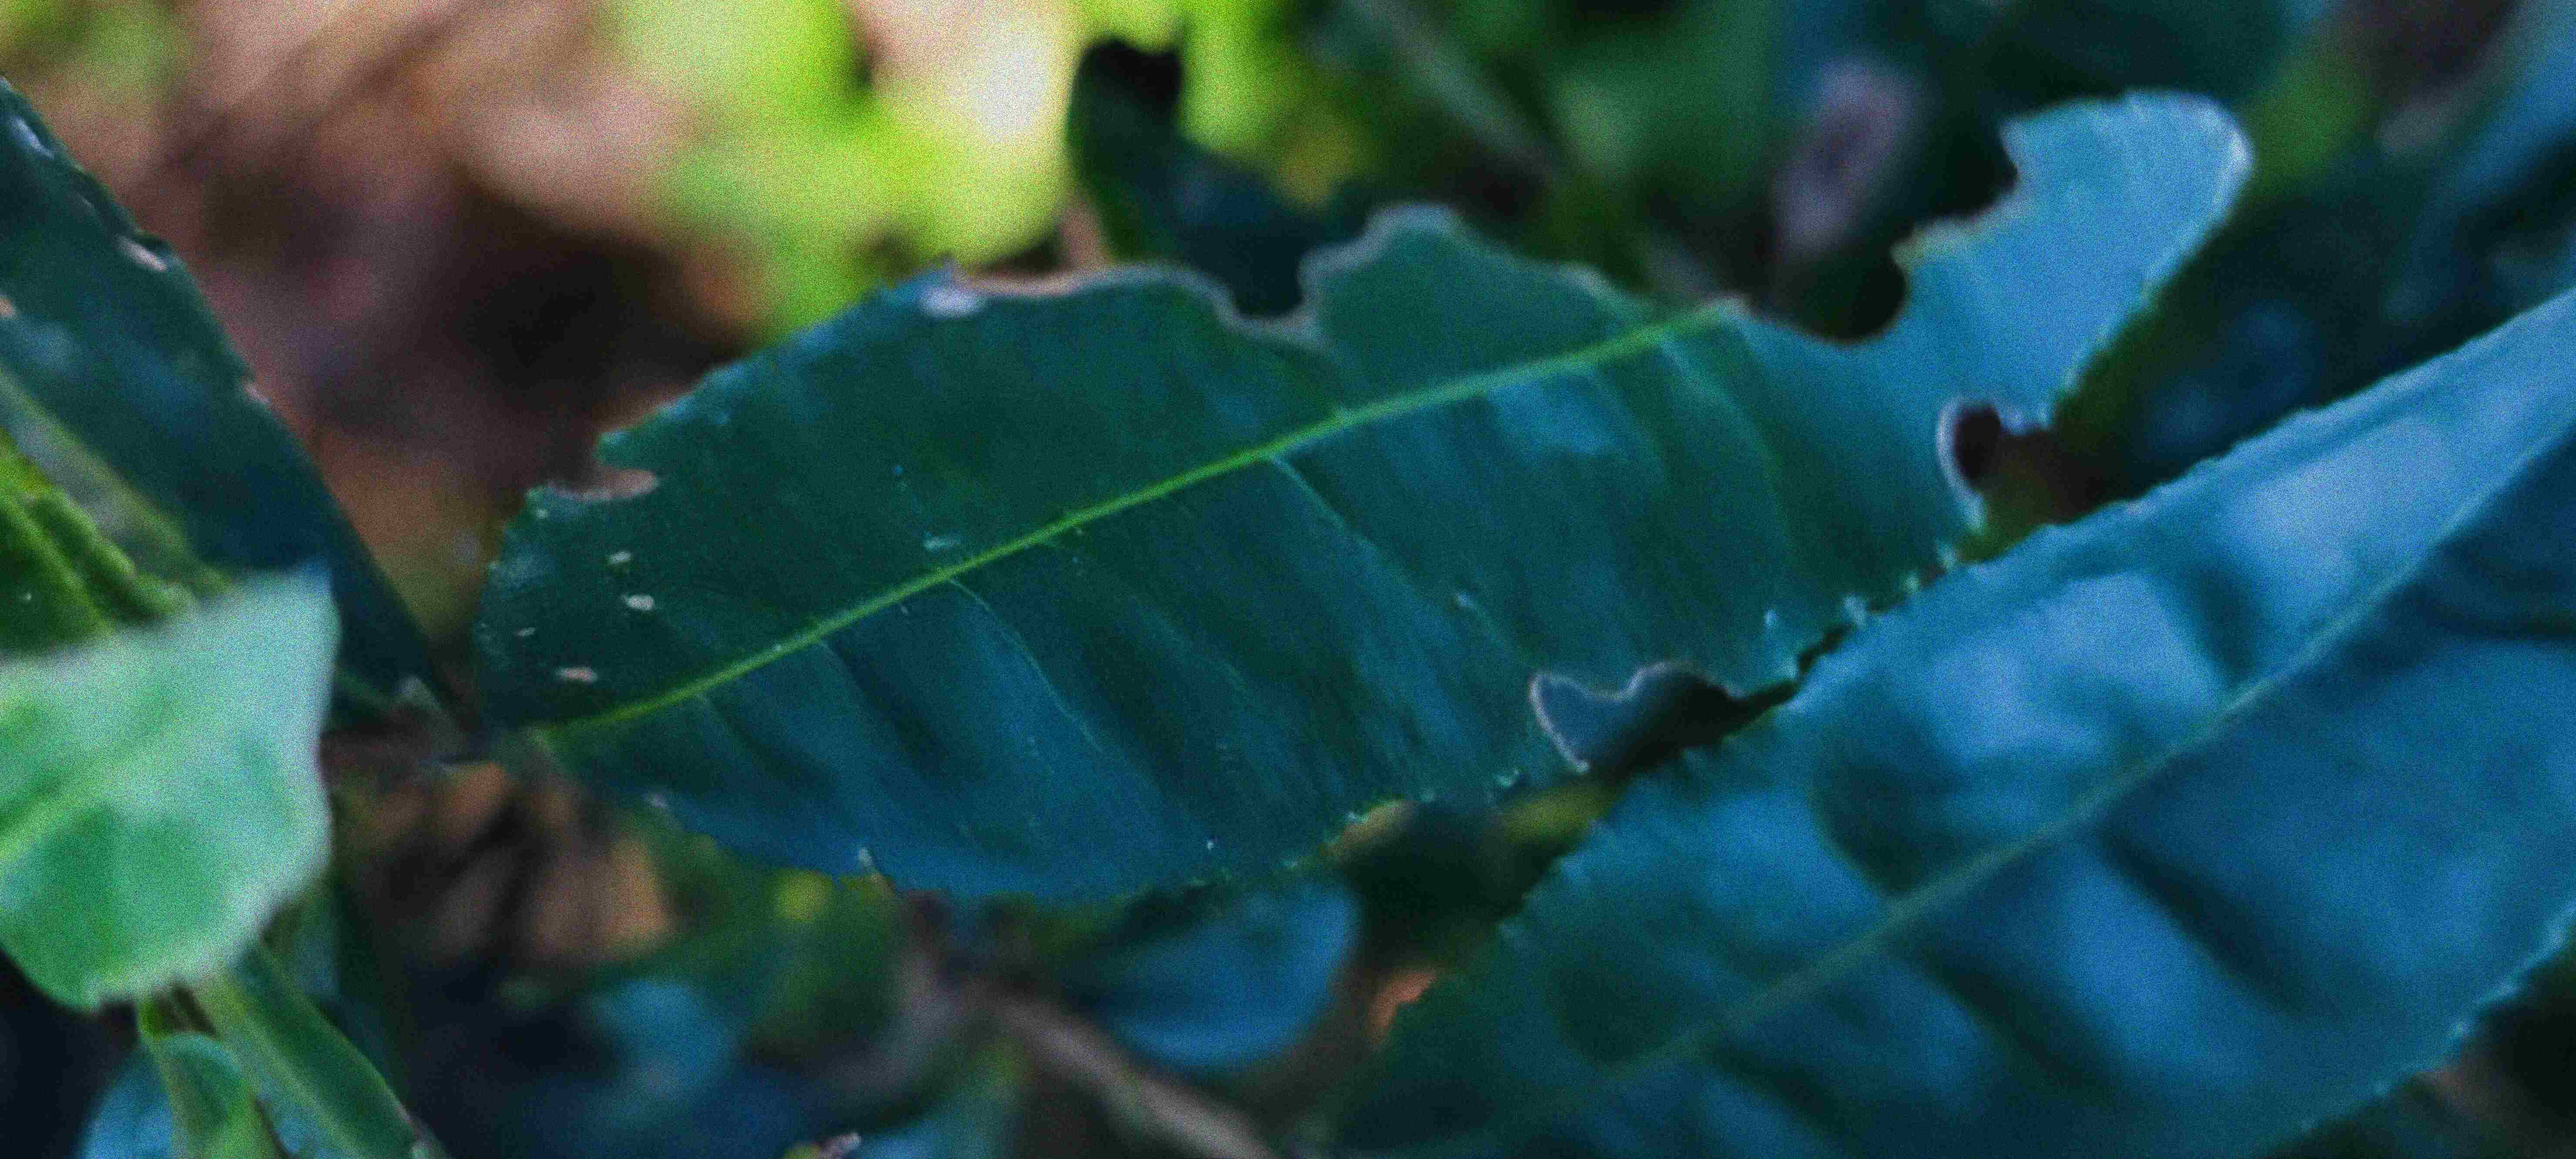chihuo_high: (476, 87, 2259, 918)
healthy: (1306, 295, 2569, 1154), (2, 560, 347, 1016)
